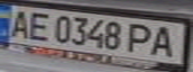0: (48, 12, 72, 45)
3: (69, 15, 90, 47)
4: (87, 17, 106, 50)
8: (103, 19, 127, 52)
A: (145, 24, 184, 58), (3, 7, 33, 39)
E: (24, 9, 54, 42)
P: (124, 20, 160, 55)
